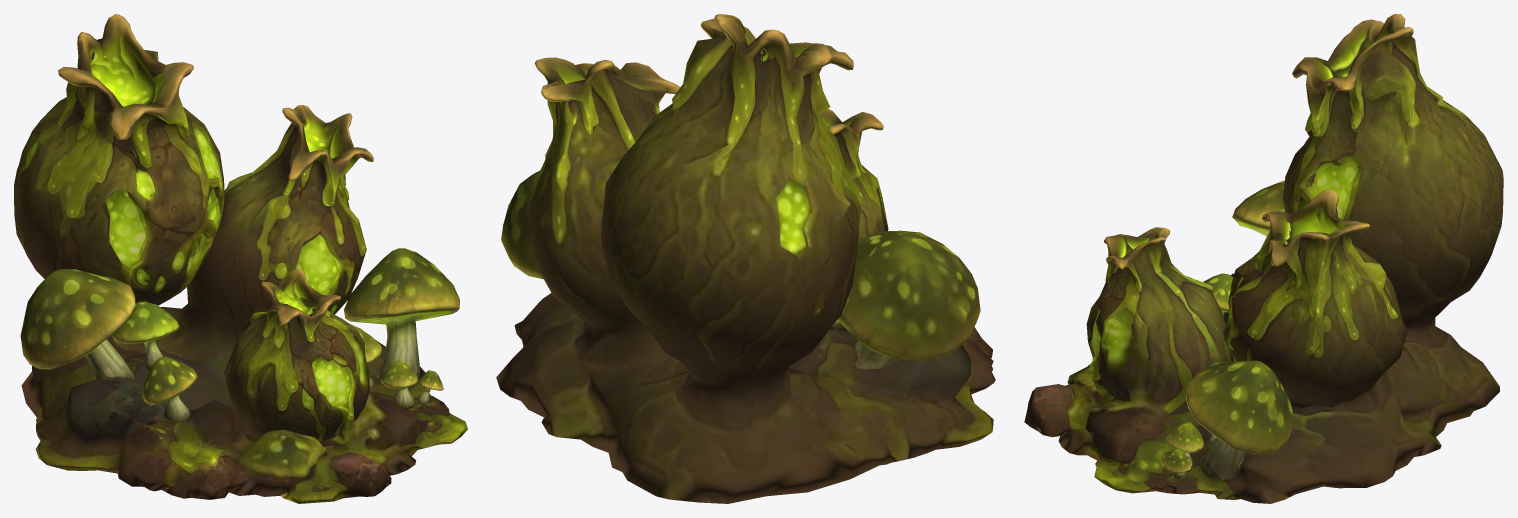
File: dp_m_spores.glb
3 renders of one model, left to right at view 1: azimuth 30°, elevation 25°; view 2: azimuth 150°, elevation 25°; view 3: azimuth 270°, elevation 25°, orthographic. The views are drawn at different scales.
Size of the model in its own units: 0.9312 by 0.7973 by 0.957.
1 material, 1 textured.
